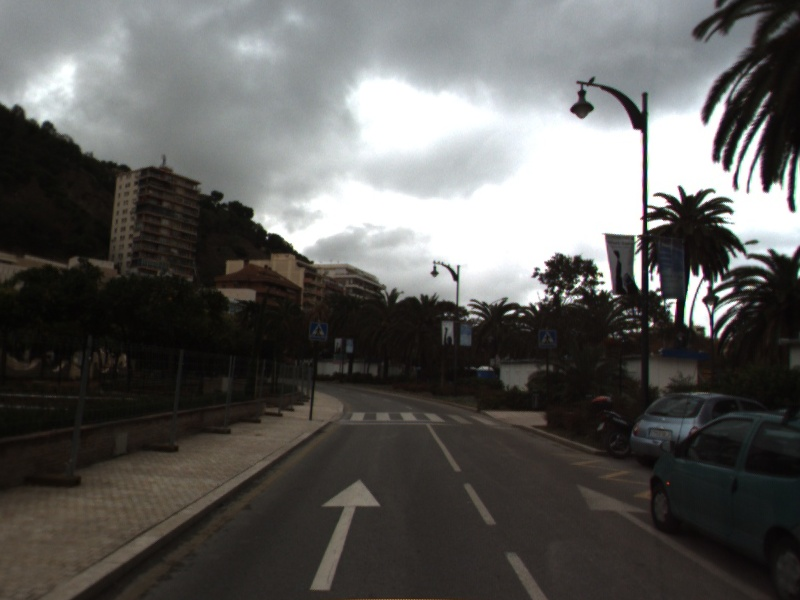STRAIGHT: (575, 482, 781, 600), (308, 478, 383, 592)
